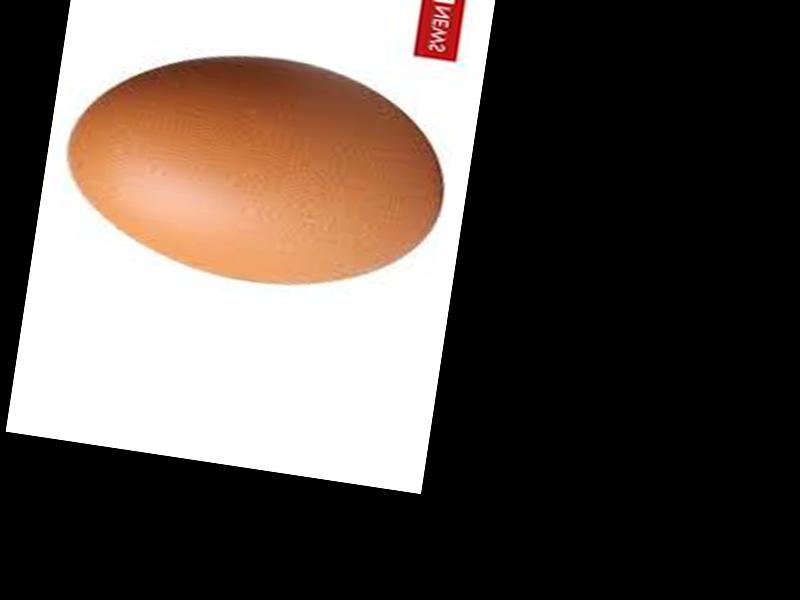Eggs: (55, 31, 457, 308)
